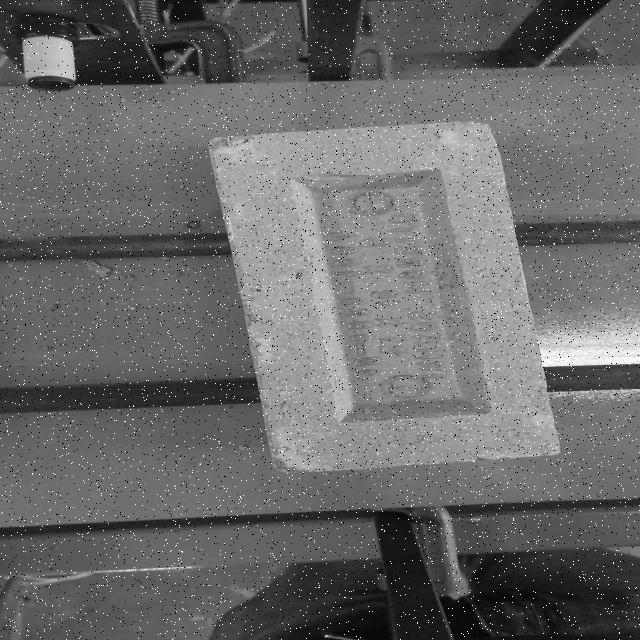bricks: (210, 122, 563, 477)
